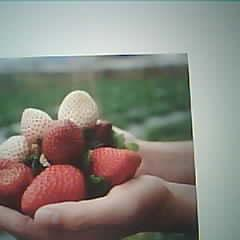straw-ripe: (22, 165, 85, 211), (43, 119, 85, 164), (91, 148, 142, 185)
straw-unripe: (58, 90, 98, 130), (22, 108, 53, 139), (0, 136, 32, 160)
